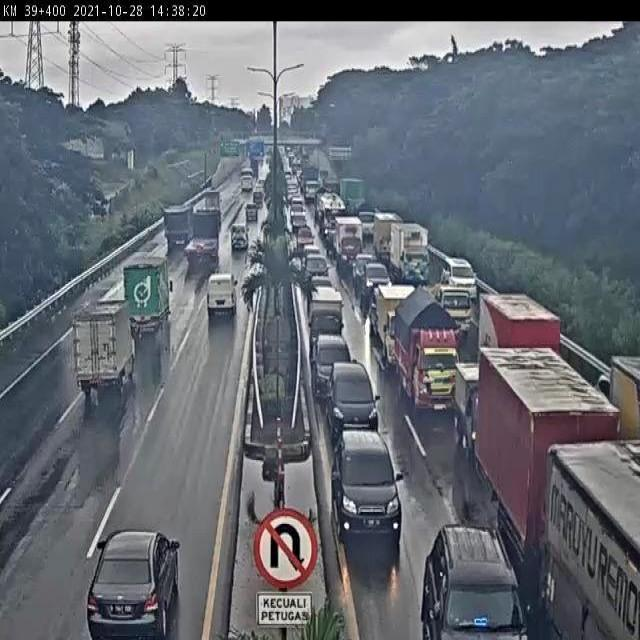big truck: (473, 354, 607, 574), (552, 432, 640, 640), (480, 291, 565, 381), (600, 357, 640, 444), (181, 210, 224, 262), (163, 204, 192, 251)
car: (57, 529, 203, 640), (419, 514, 524, 640), (333, 417, 397, 548), (327, 359, 393, 429), (200, 275, 248, 324), (315, 335, 353, 396), (437, 249, 475, 296), (227, 221, 250, 260), (242, 204, 261, 229)
small truck: (396, 297, 462, 424), (66, 304, 132, 424), (120, 248, 176, 337), (388, 219, 437, 289), (377, 282, 416, 366), (452, 366, 494, 442), (434, 273, 475, 331), (301, 291, 345, 341)
